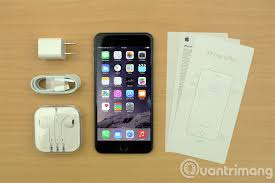iphone: (91, 28, 157, 156)
iphone6: (90, 27, 156, 155)
